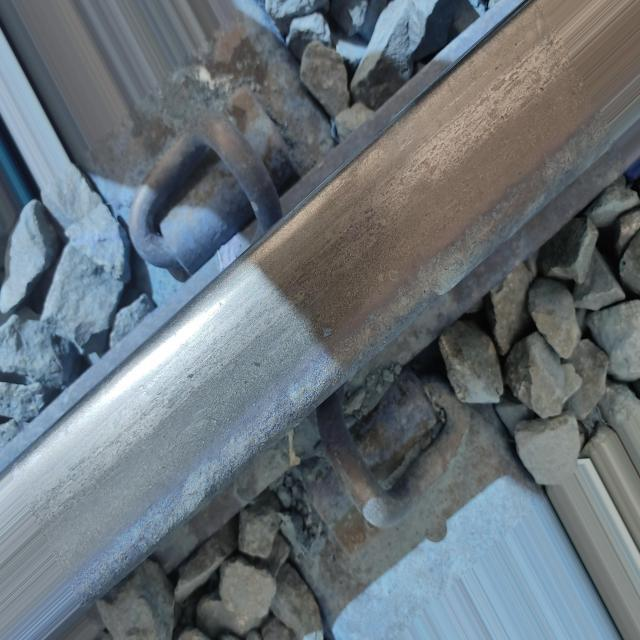Good Fasteners: (285, 336, 478, 551), (125, 77, 297, 303)
